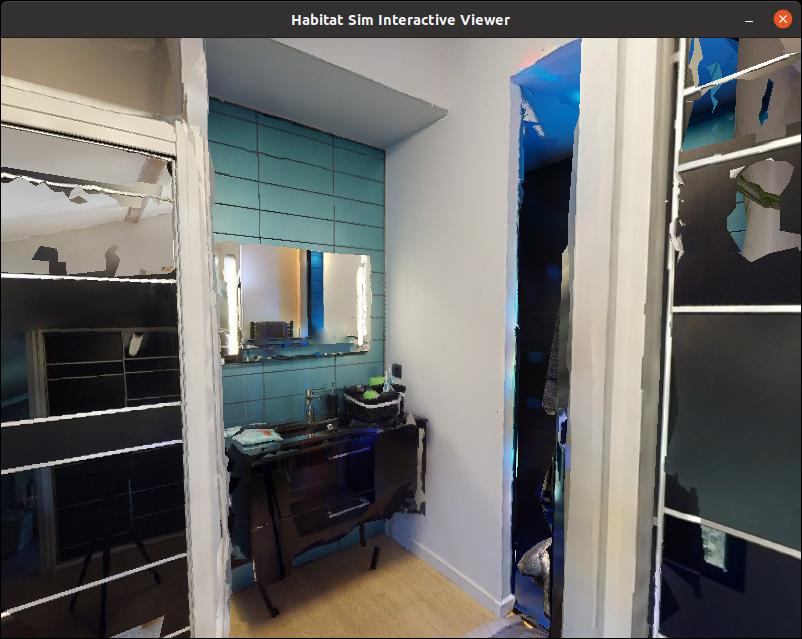sink: (257, 385, 353, 467)
